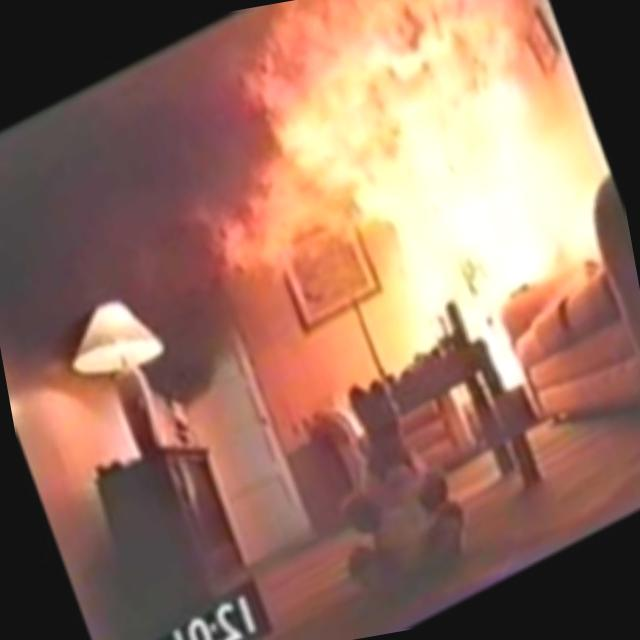fire: (256, 0, 637, 357)
smoke: (0, 25, 303, 367)
